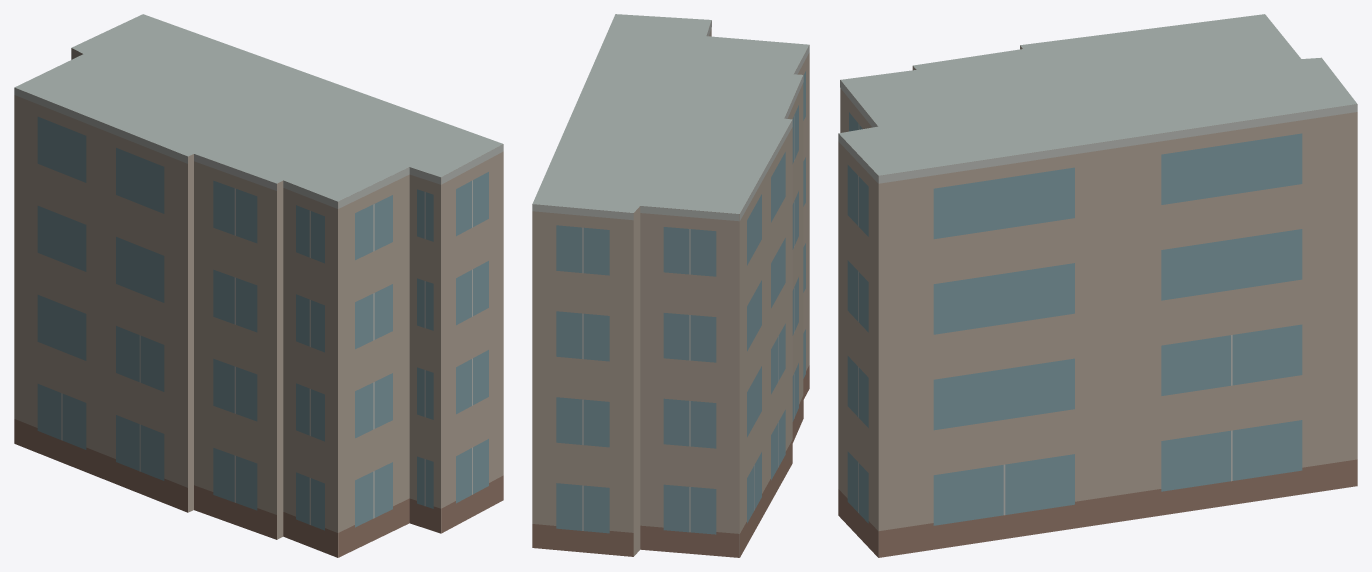
The model's file is survey-upis-32583178.glb.
The picture shows the model from 3 angles, left to right: view 1: azimuth 30°, elevation 25°; view 2: azimuth 150°, elevation 25°; view 3: azimuth 270°, elevation 25°; orthographic projection. The views are drawn at different scales.
Parts seen in each view (by area): view 1: survey-upis-32583178.tmp; view 2: survey-upis-32583178.tmp; view 3: survey-upis-32583178.tmp.
Boxes of the visible parts, <box> form: survey-upis-32583178.tmp: <box>14,14,503,557</box>; survey-upis-32583178.tmp: <box>532,14,809,557</box>; survey-upis-32583178.tmp: <box>838,14,1357,557</box>.
Size of the model in its own units: 10.63 by 11.7 by 14.41.
